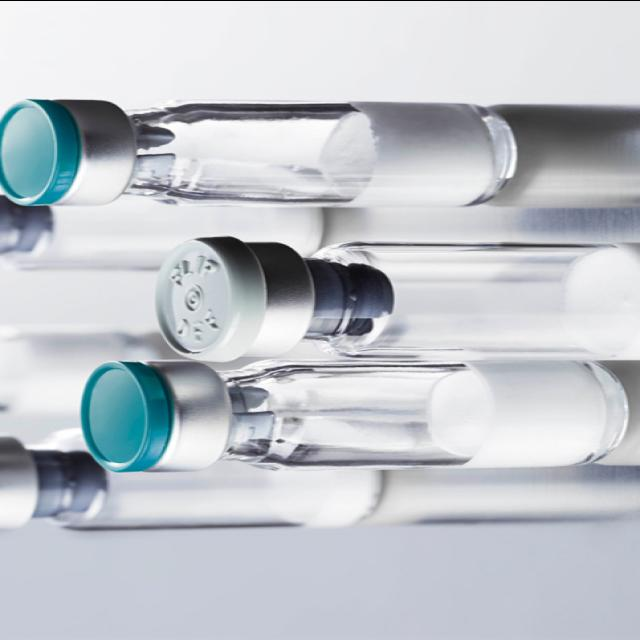vial: (156, 244, 244, 356), (76, 371, 166, 466), (0, 106, 80, 206), (0, 441, 51, 526), (0, 211, 25, 263)
